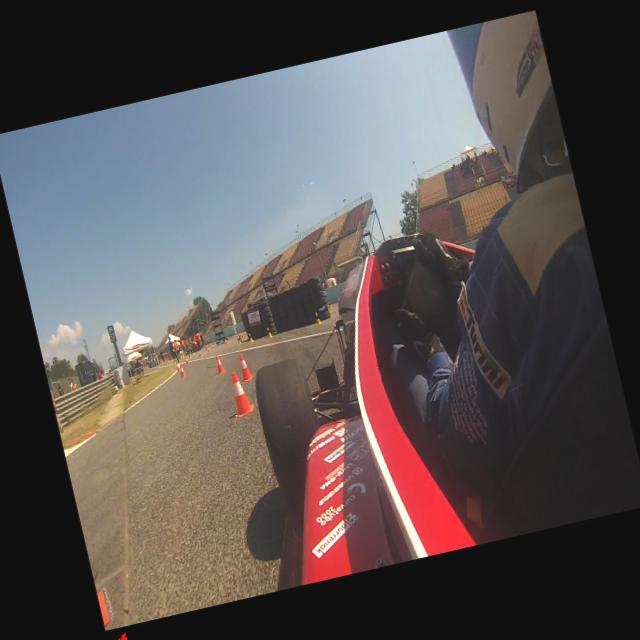orange_cone: (224, 368, 256, 418), (234, 351, 254, 382), (212, 353, 226, 375), (178, 363, 186, 378), (184, 356, 190, 364), (175, 362, 180, 371), (198, 351, 202, 356), (207, 346, 210, 352)
yellow_cone: (314, 310, 322, 325), (266, 325, 273, 338), (248, 330, 254, 342), (237, 335, 242, 344), (173, 358, 177, 364), (328, 302, 332, 308), (188, 352, 191, 358)
